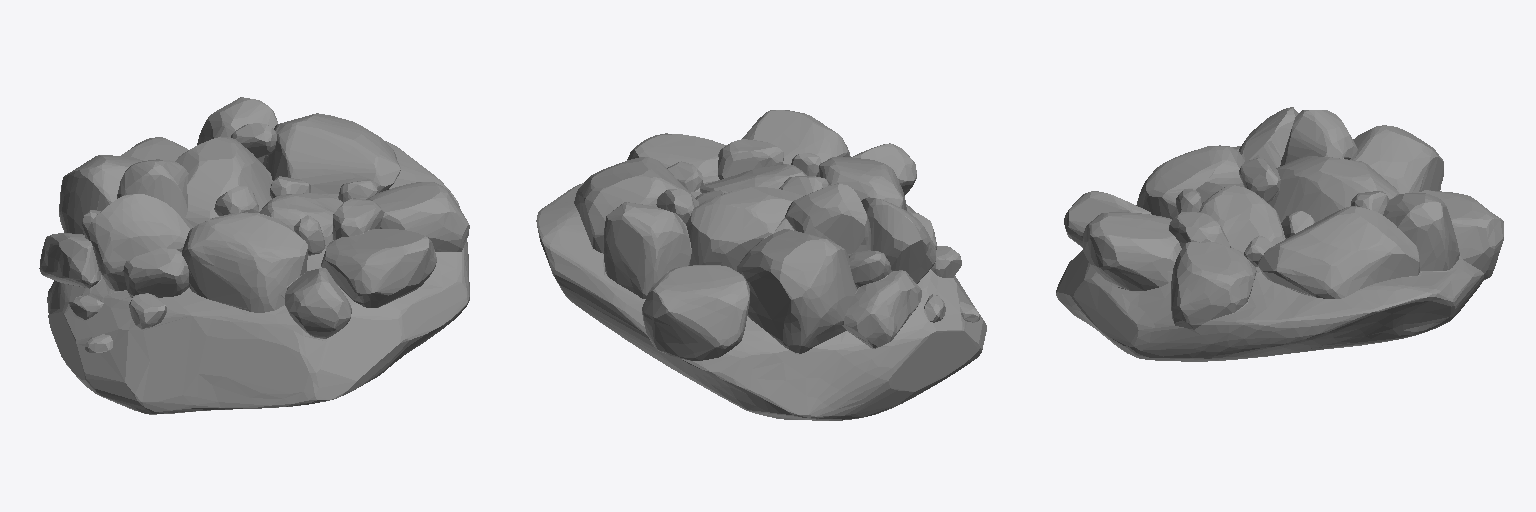
The model's file is SmallRocks03.obj.
The picture shows the model from 3 angles: view 1: azimuth 30°, elevation 25°; view 2: azimuth 150°, elevation 25°; view 3: azimuth 270°, elevation 25°; orthographic projection.
Visible parts, largest first — view 1: g Group54036_Group54036; view 2: g Group54036_Group54036; view 3: g Group54036_Group54036.
Part boxes in pixels (bbox=[...]): g Group54036_Group54036: bbox=[39, 97, 469, 414]; g Group54036_Group54036: bbox=[536, 110, 986, 420]; g Group54036_Group54036: bbox=[1056, 107, 1503, 361].
Size of the model in its own units: 4.36 by 2.26 by 4.43.